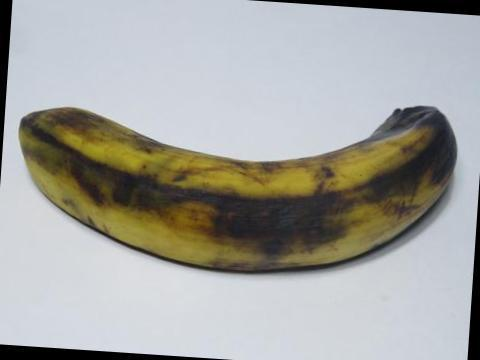overripe: (8, 77, 479, 297)
